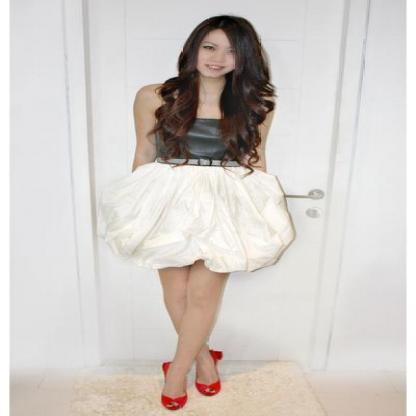shirt: (154, 118, 258, 172)
shoe: (161, 349, 222, 407)
skirt: (114, 156, 286, 272)
